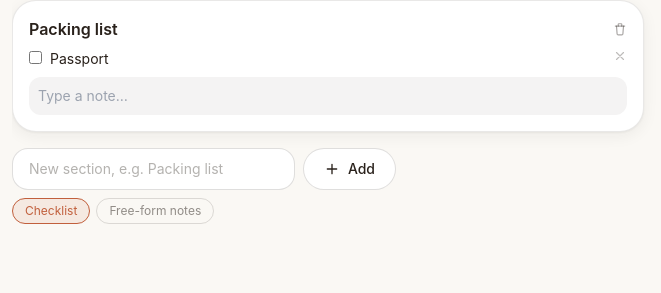
NotesPanel — adding a note › keeps taking notes while the previous one is still saving
Type "Sunscreen" into the field with placeholder "Type a note…".
click(328, 96); type("Sunscreen")  # box [29, 77, 627, 115]
Then press Enter
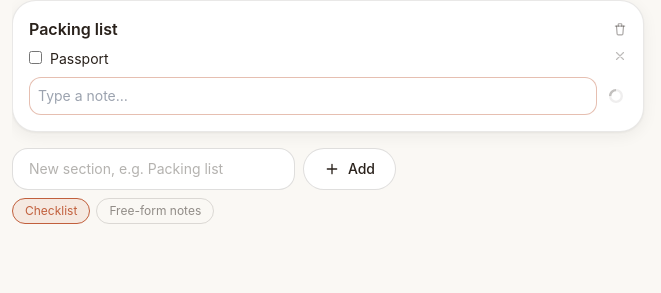
Expected: the message named "Saving note" is shown, [609, 89, 623, 103]
Note: Typed while the first note is still on its way to the server.
Type "Towel" into the field with placeholder "Type a note…".
click(313, 96); type("Towel")  # box [29, 77, 597, 115]
Then press Enter
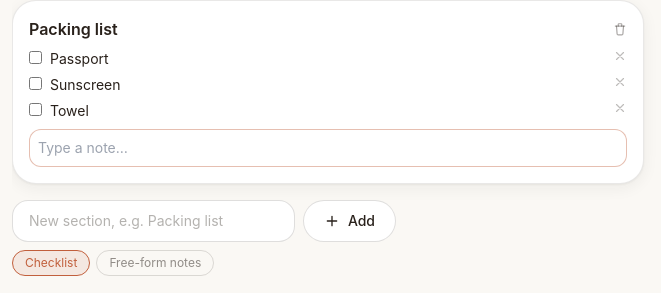
Expected: the message is gone
